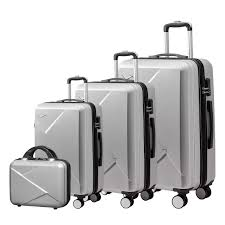suitcase: (115, 22, 215, 208), (74, 51, 156, 208), (33, 75, 103, 206)
